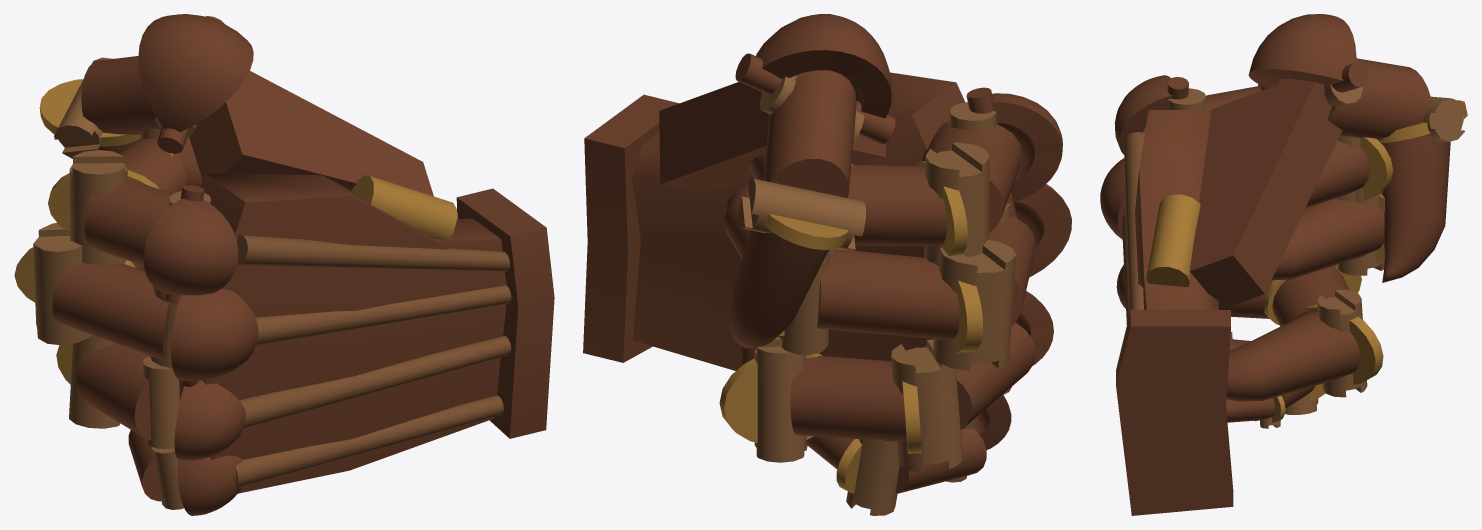
Rendered from Boss_Fist.fbx.
The picture shows the model from 3 angles, left to right: view 1: azimuth 30°, elevation 25°; view 2: azimuth 150°, elevation 25°; view 3: azimuth 270°, elevation 25°; orthographic projection. The views are drawn at different scales.
Parts seen in each view (by area): view 1: Boss_Fist; view 2: Boss_Fist; view 3: Boss_Fist.
Part boxes in pixels (x1=…): Boss_Fist: x1=14, y1=14, x2=554, y2=515; Boss_Fist: x1=583, y1=14, x2=1071, y2=515; Boss_Fist: x1=1100, y1=14, x2=1467, y2=515.
Bounding box in the file's own units: 4.23 × 4.18 × 3.42.
